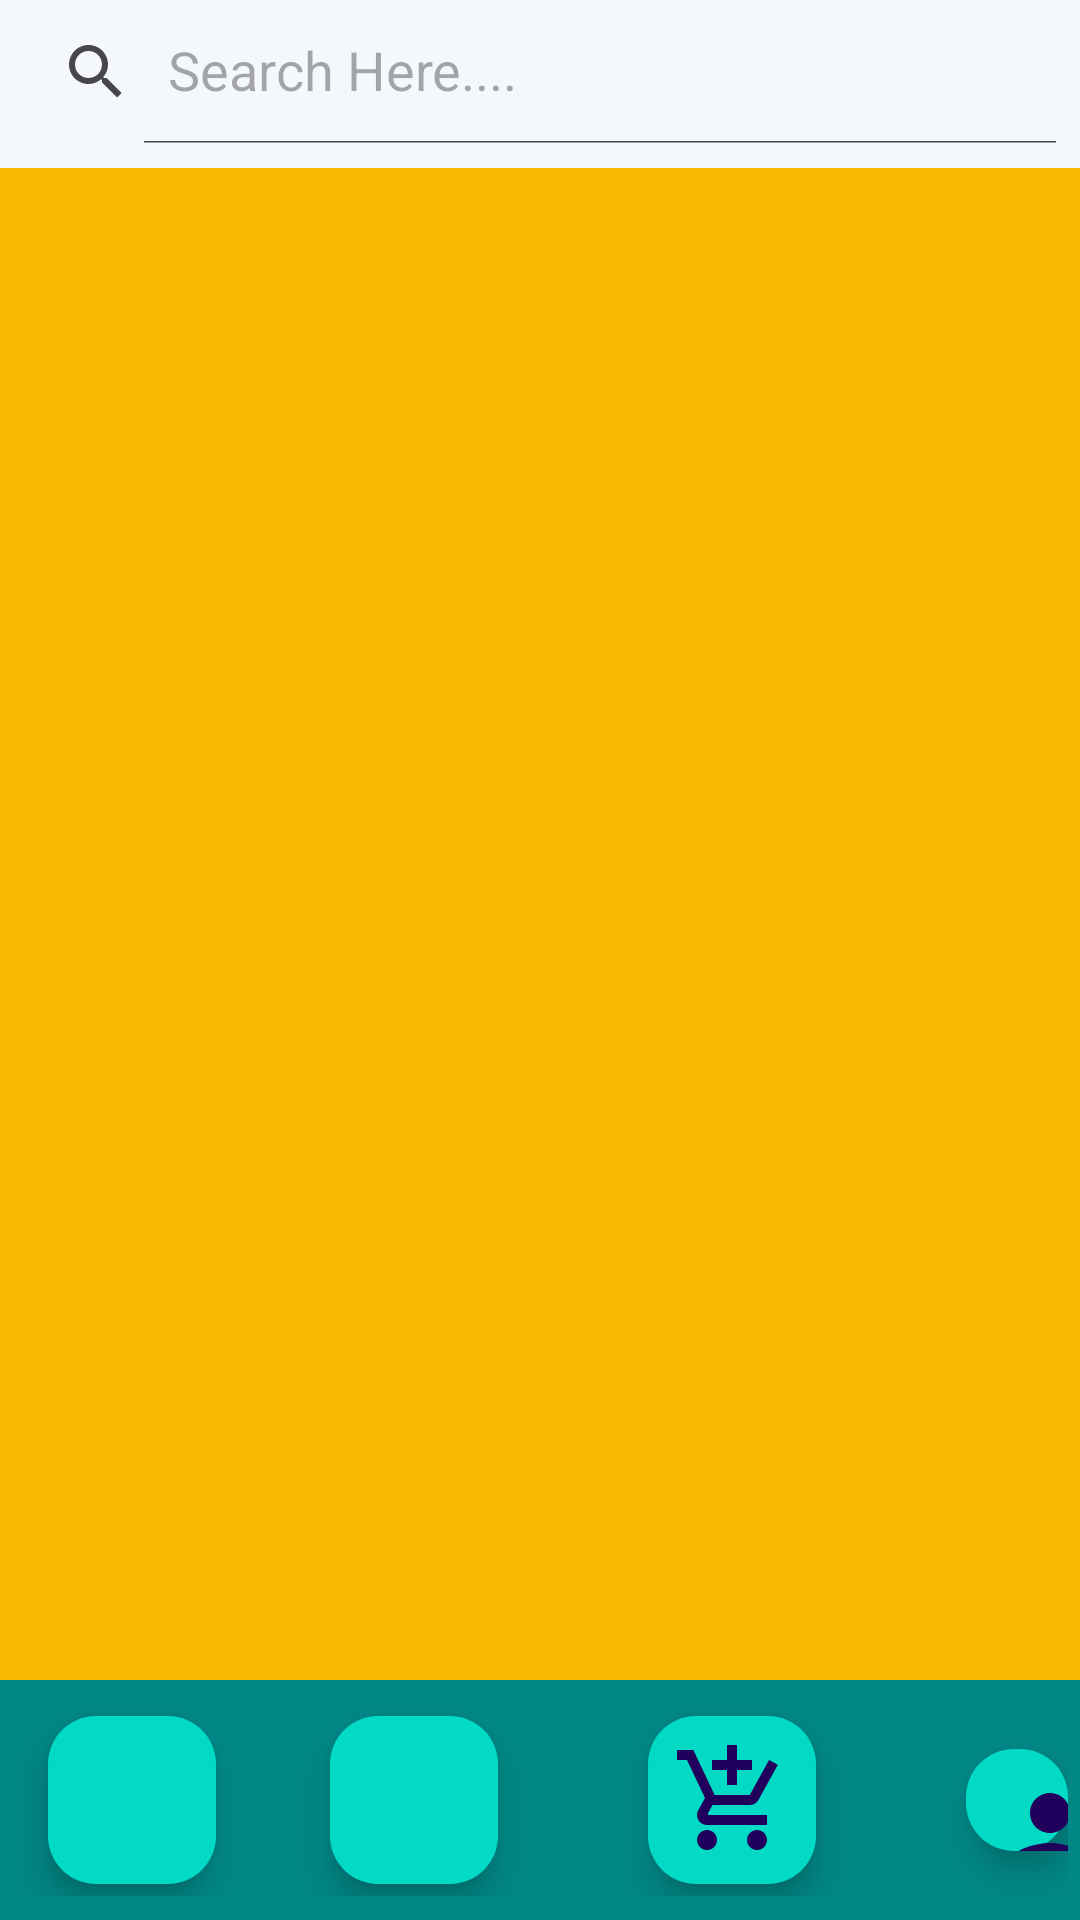

Where icons sit on this 1080w x 1920h app screen, as (x1, y1, x2, y2):
add shopping cart: (648, 1716, 816, 1884)
